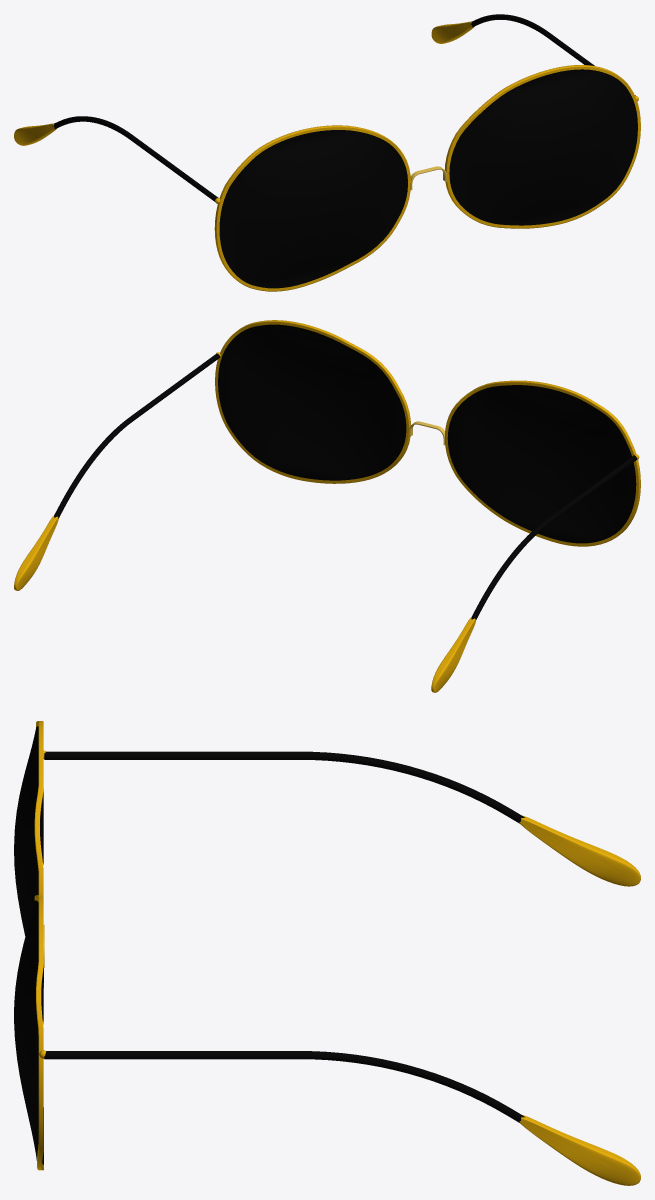
Rendered from sunglasses_91c3a29f.glb.
3 renders of one model, top to bottom at view 1: azimuth 30°, elevation 25°; view 2: azimuth 150°, elevation 25°; view 3: azimuth 270°, elevation 25°, orthographic. The views are drawn at different scales.
Parts seen in each view (by area): view 1: Sun Glasses_01; view 2: Sun Glasses_01; view 3: Sun Glasses_01.
Part boxes in pixels (bbox=[...]): Sun Glasses_01: bbox=[14, 14, 640, 291]; Sun Glasses_01: bbox=[14, 320, 640, 692]; Sun Glasses_01: bbox=[14, 721, 640, 1185].
Size of the model in its own units: 0.1296 by 0.0453 by 0.1124.
1 material, 1 textured.
